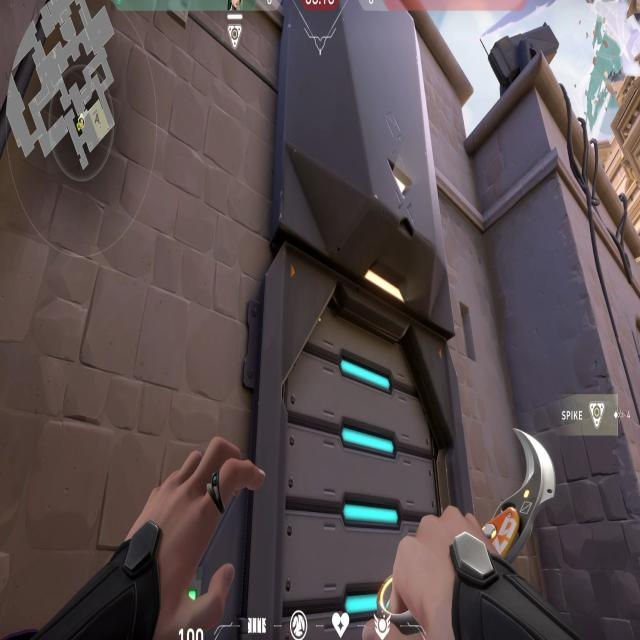A_Door: (269, 244, 450, 640)
